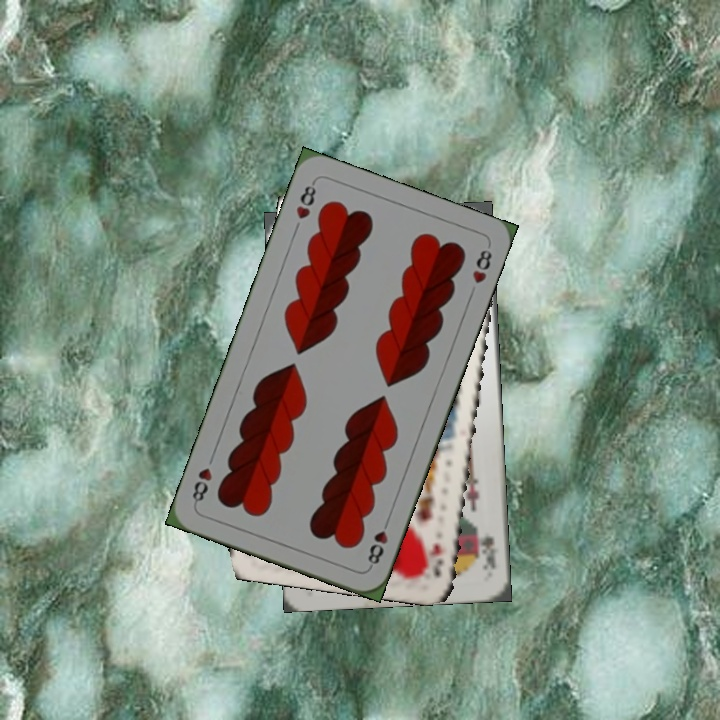H8: (363, 514, 393, 571), (292, 177, 319, 222)
HK: (420, 539, 447, 581)
SK: (473, 522, 499, 573)
